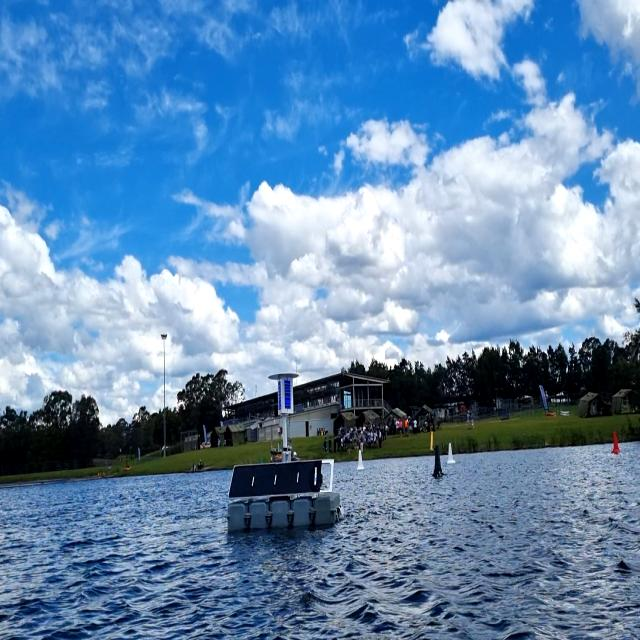led: (278, 377, 293, 413), (282, 377, 293, 412), (278, 379, 282, 412)
